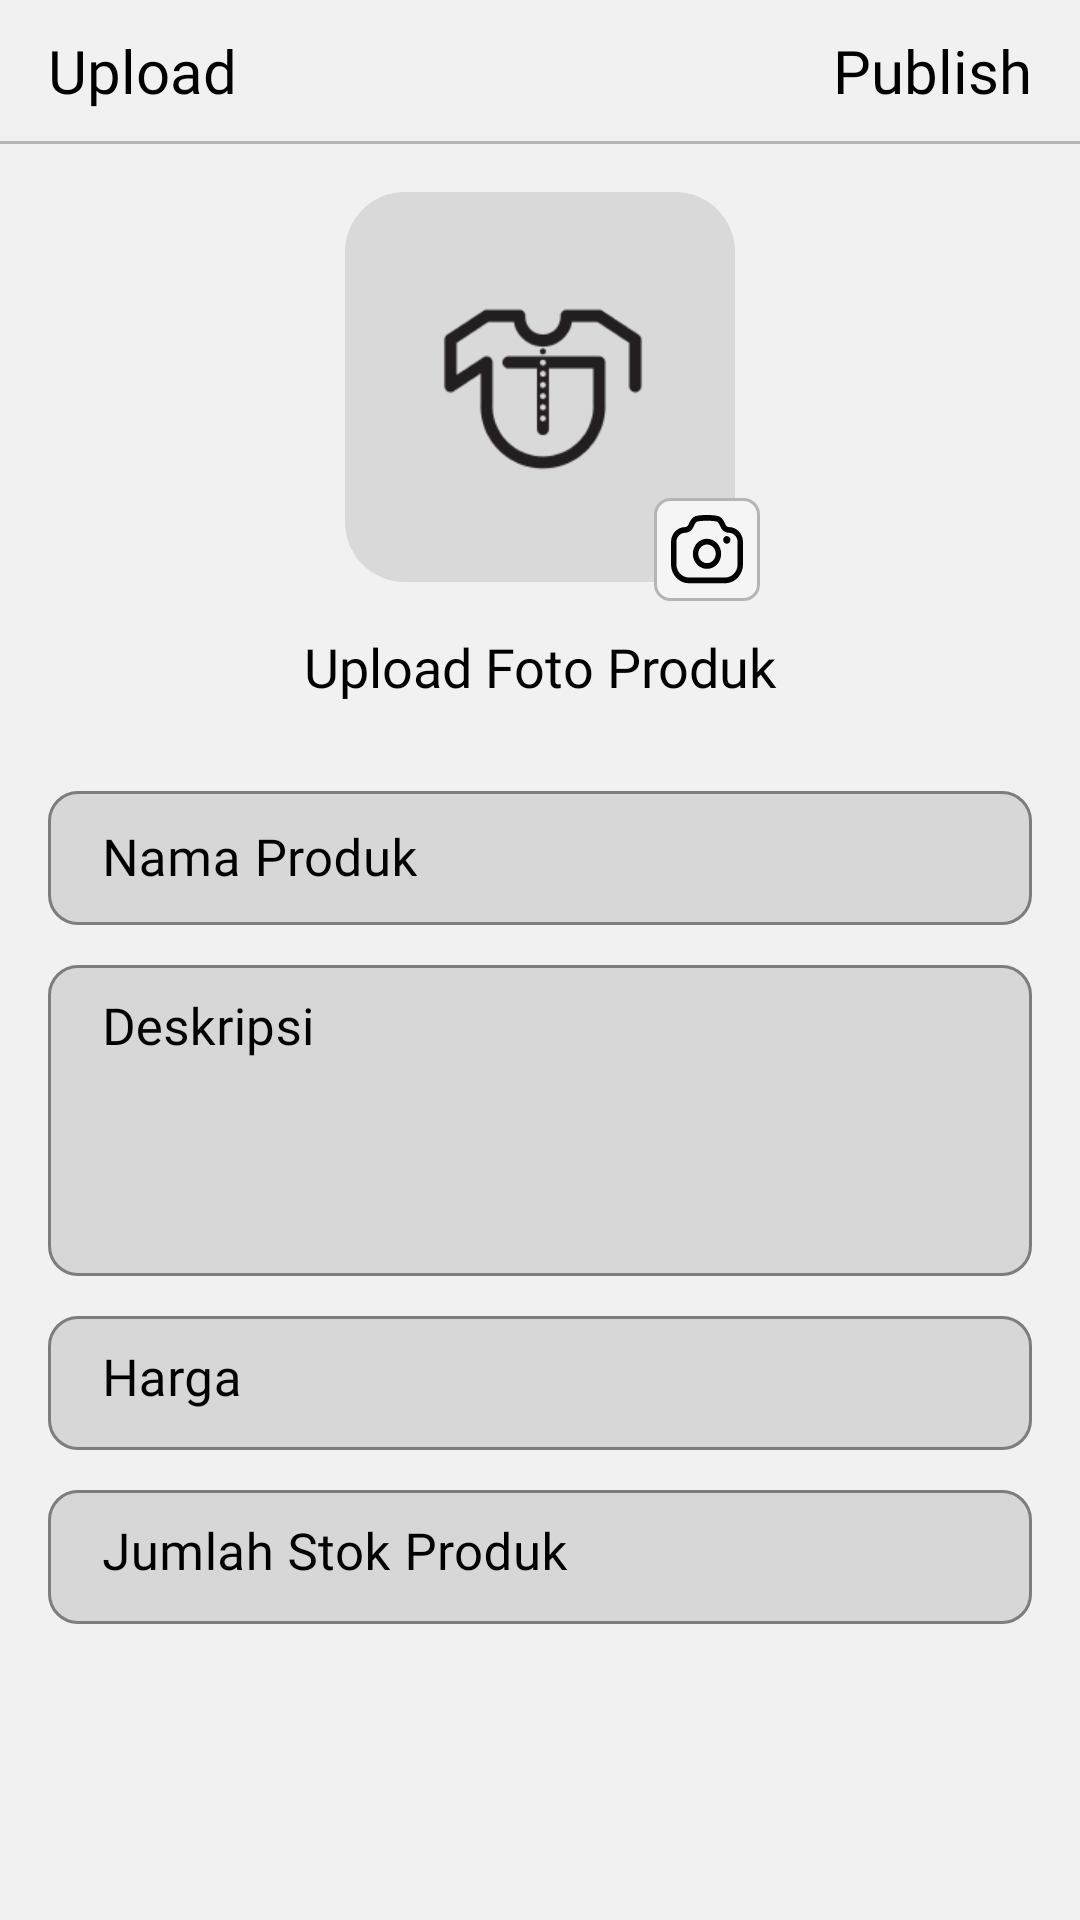

Point at icon controls on the screen. Image size 1080*1920, points as (x,y).
camera: (707,549)
